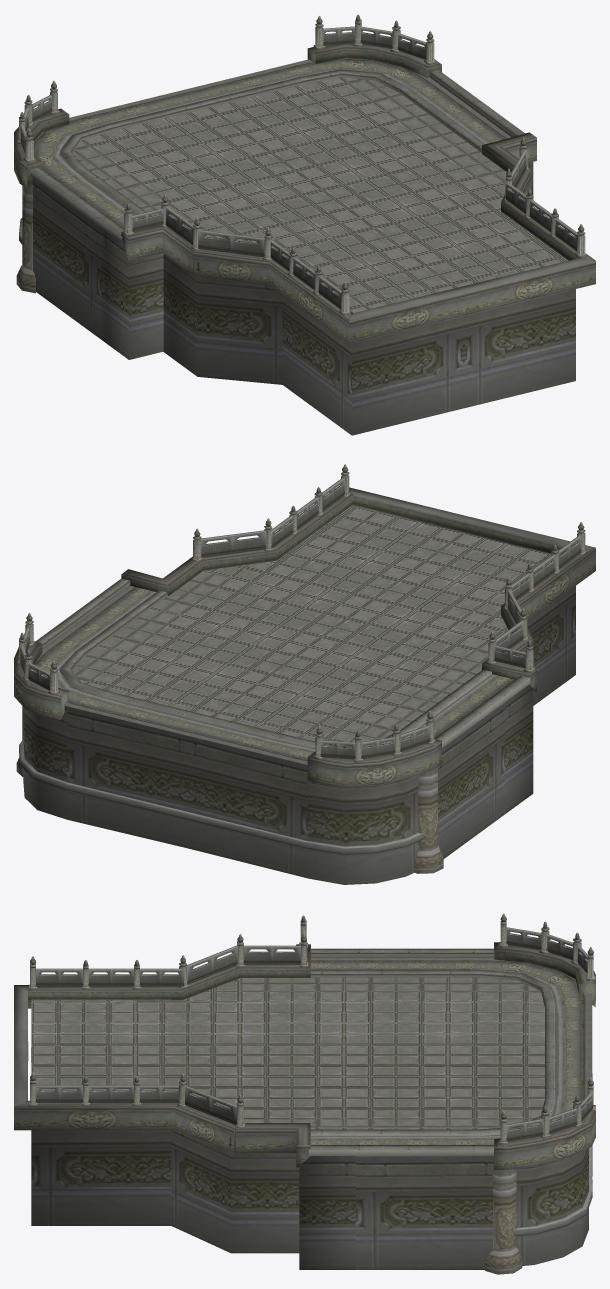
File: S2_Build_XSC099.FBX
3 renders of one model, top to bottom at view 1: azimuth 30°, elevation 25°; view 2: azimuth 150°, elevation 25°; view 3: azimuth 270°, elevation 25°, orthographic.
Visible parts, largest first — view 1: S2_Build_XSC099; view 2: S2_Build_XSC099; view 3: S2_Build_XSC099.
Part boxes in pixels (<box>): S2_Build_XSC099: <box>14,14,595,435</box>; S2_Build_XSC099: <box>14,464,595,884</box>; S2_Build_XSC099: <box>14,913,595,1274</box>.
Bounding box in the file's own units: 826 × 295 × 978.
